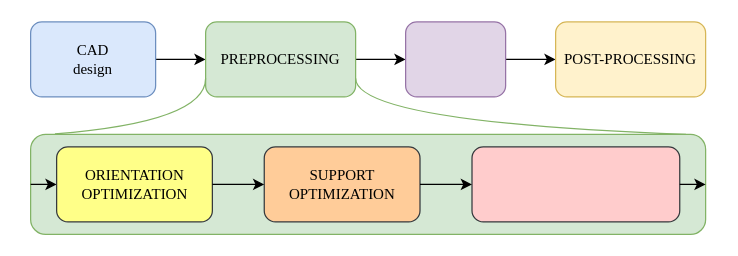
Image size: 738x256. Some labels were removed from this diagram. Here are the shapes that lost their labels. From the top down, the centre of each, then its label:
the point at 455,59: PRINT
the point at 575,184: MACHINE INSTRUCTION GENERATION (SLICING)
